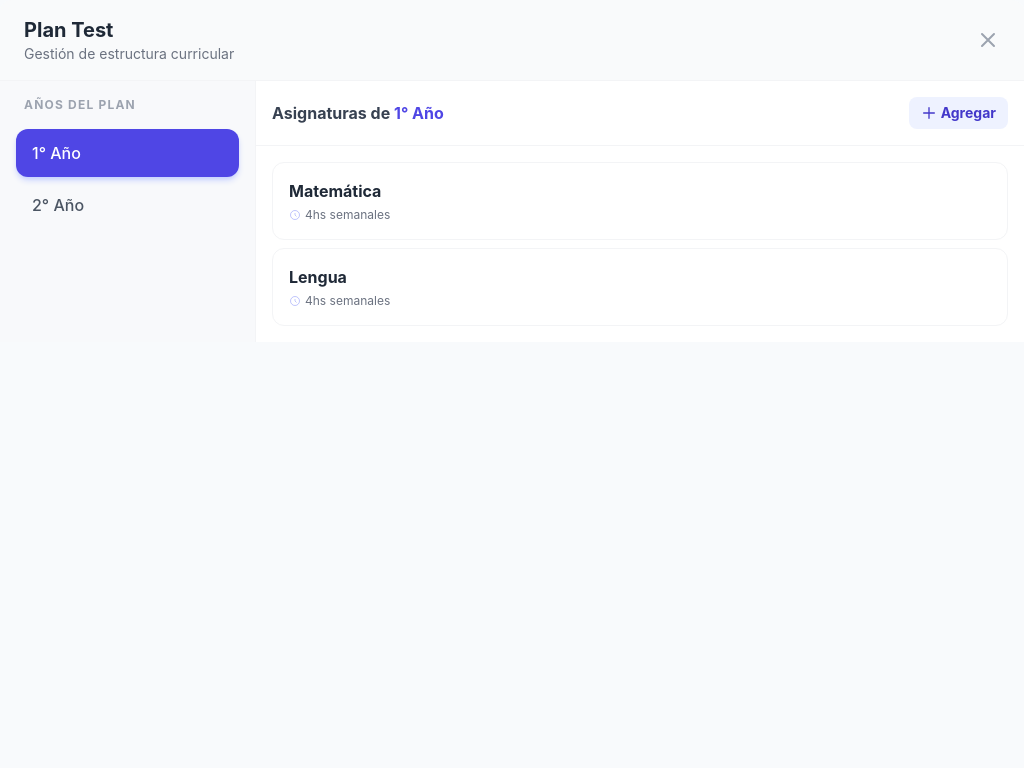
Test case: AsignaturasManager Component › debe permitir abrir el formulario para agregar una nueva asignatura
Click the button "Agregar". click: point(958, 113)
box: [909,97,1008,129]
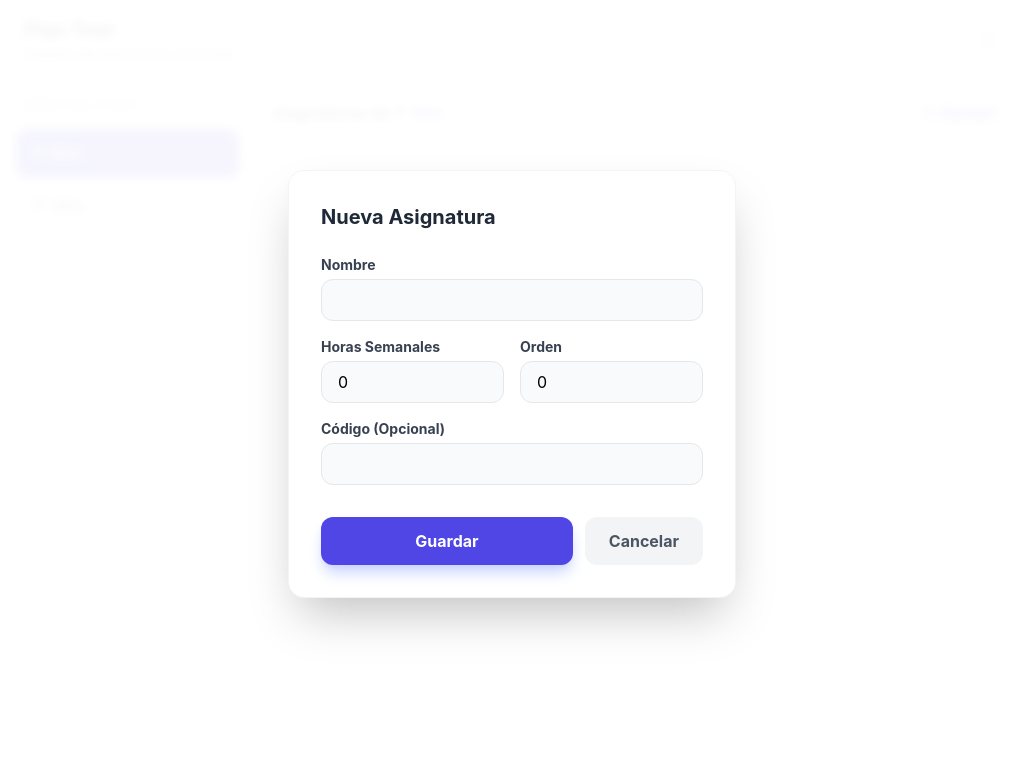
expect the heading "Nueva Asignatura" is shown: met, box [321,205,496,229]
expect the field labelled "Nombre" is shown: met, box [321,279,703,321]
